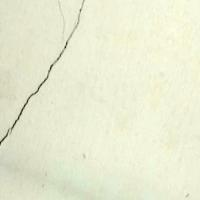crack: (1, 0, 89, 161)
